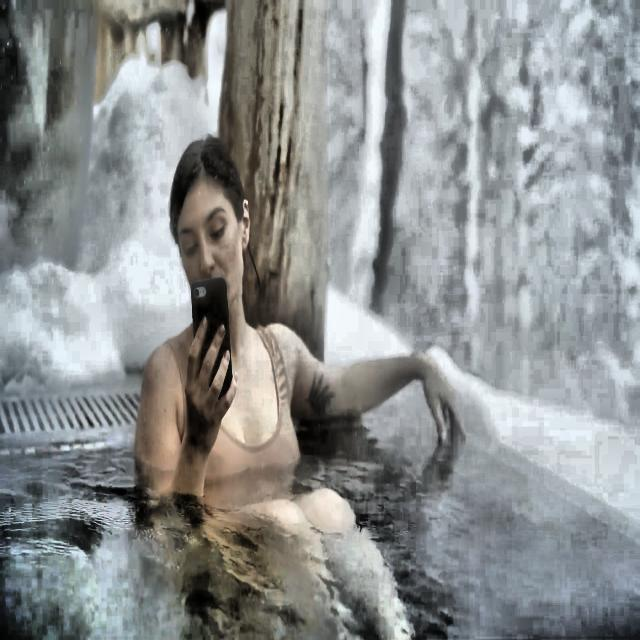Phone: (191, 273, 234, 400)
